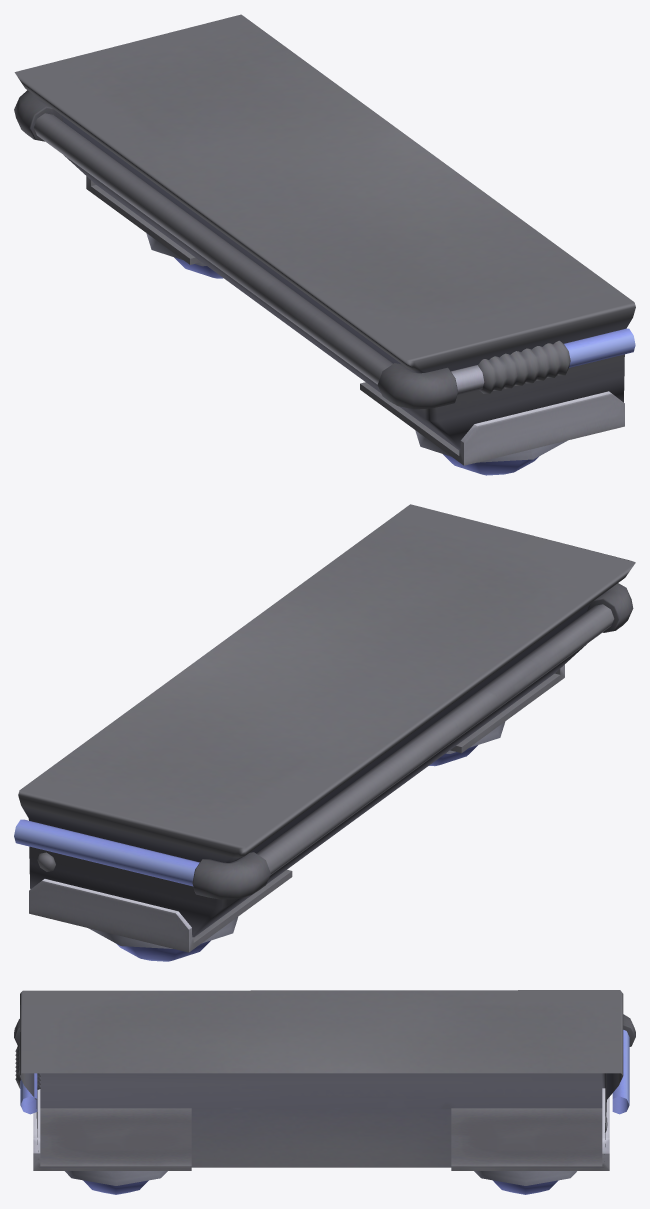
The model's file is Space_MovingPlatLeft_Vert.fbx.
3 views of the same model, one above another, from view 1: azimuth 30°, elevation 25°; view 2: azimuth 150°, elevation 25°; view 3: azimuth 270°, elevation 25° (orthographic). The views are drawn at different scales.
Visible parts, largest first — view 1: polySurface736; view 2: polySurface736; view 3: polySurface736.
Boxes of the visible parts, left/top/right/bottom form: polySurface736: left=14, top=14, right=635, bottom=475; polySurface736: left=14, top=504, right=635, bottom=961; polySurface736: left=14, top=990, right=635, bottom=1194.
Size of the model in its own units: 103 by 80.96 by 311.
